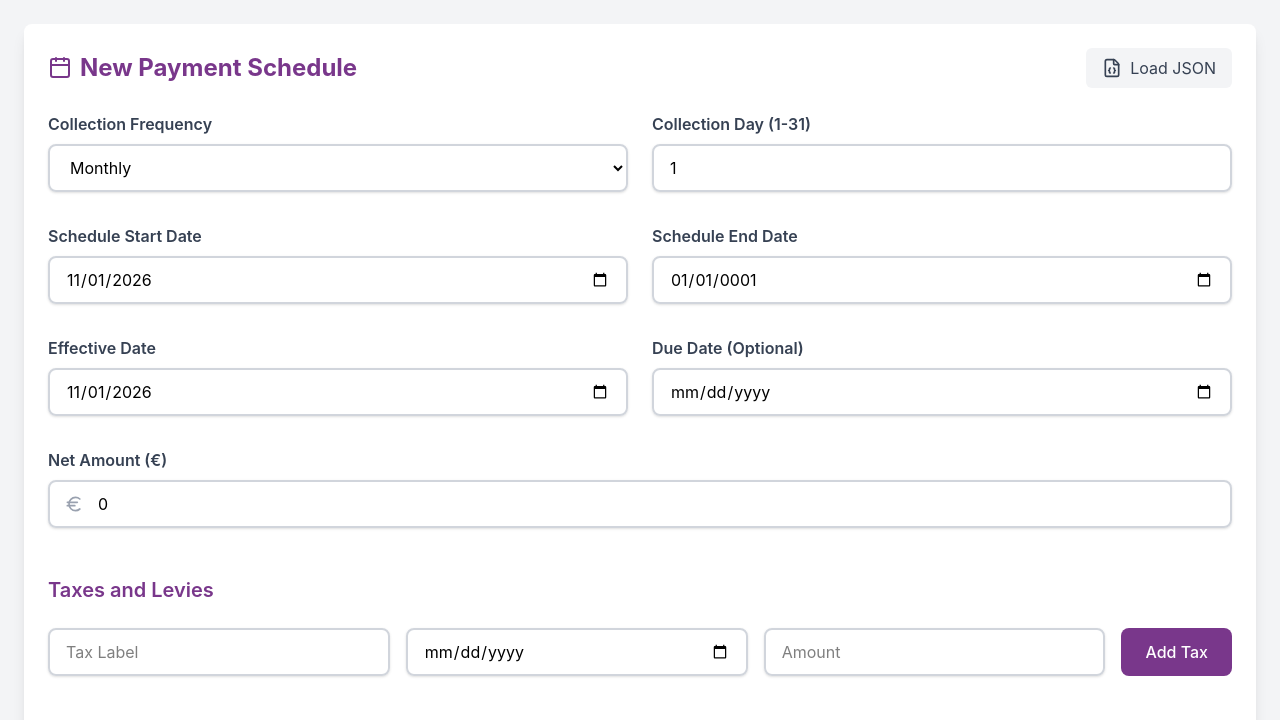
Scenario: NewSchedule › surfaces a 401 response as an authentication-expired message
The width and height of the screenshot is (1280, 720).
Replace the text in the number field showing "0" with "250" at (640, 504), box 48,480 -> 1232,528
(page scrolled)
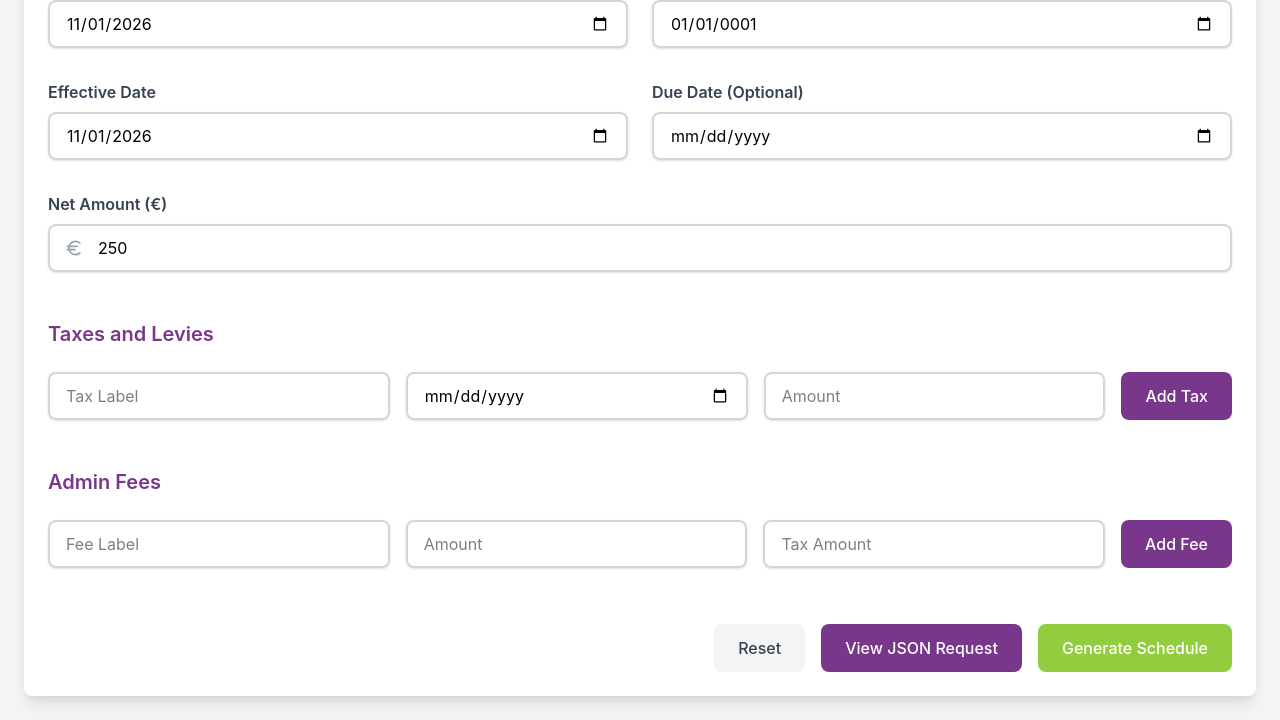
Click the button "Generate Schedule" at (1135, 648), box 1038,624 -> 1232,672
(page scrolled)
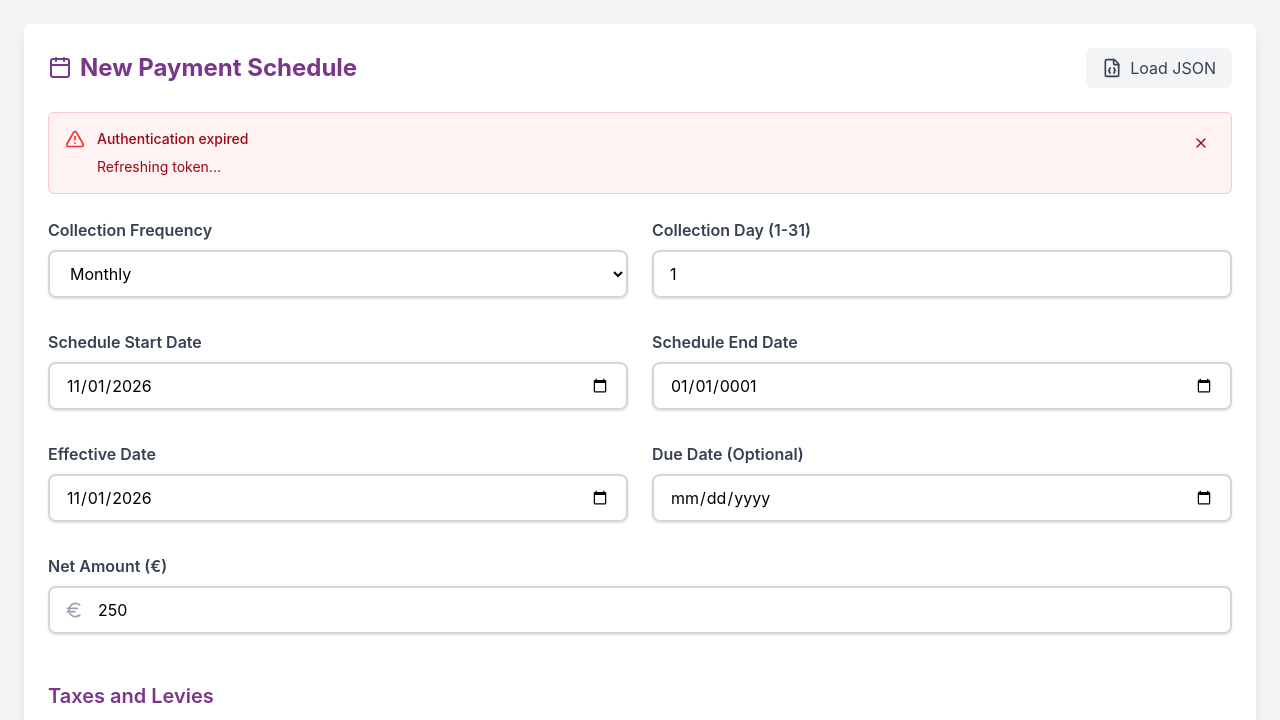
Check: the heading "Authentication expired" is shown, box 97,130 -> 248,147
